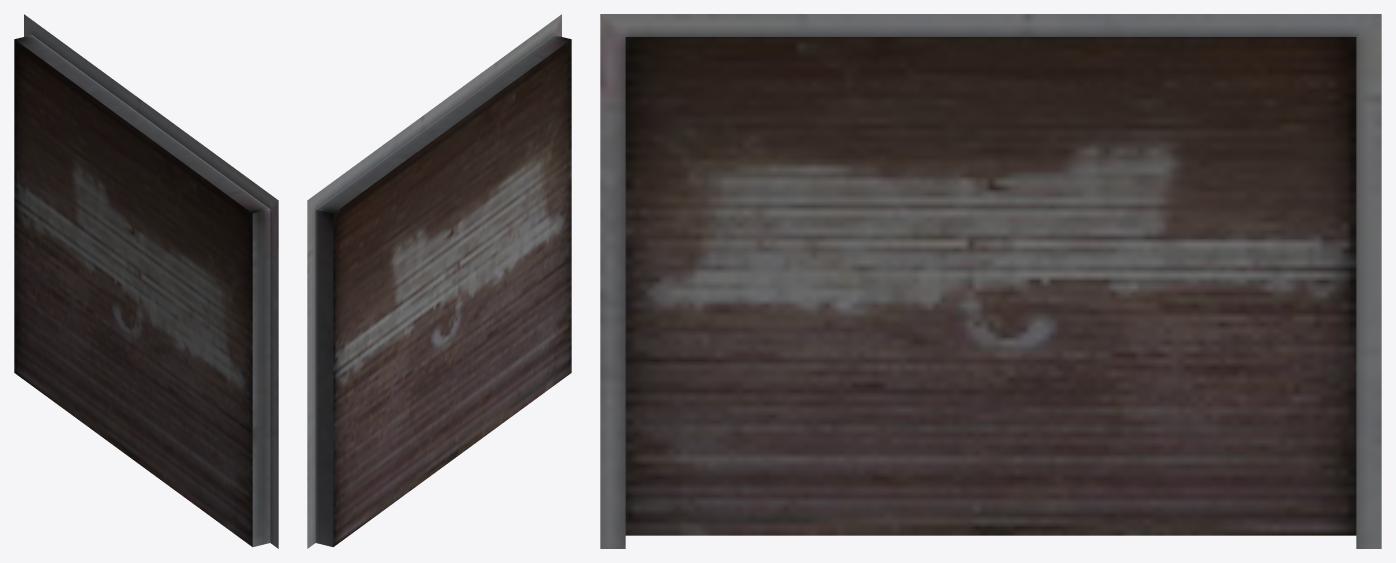
Rendered from Shutter_01.FBX.
3 renders of one model, left to right at view 1: azimuth 30°, elevation 25°; view 2: azimuth 150°, elevation 25°; view 3: azimuth 270°, elevation 25°, orthographic. The views are drawn at different scales.
Visible parts, largest first — view 1: Shutter_01; view 2: Shutter_01; view 3: Shutter_01.
Boxes of the visible parts, x1,y1,x2,y2 form: Shutter_01: (14,14,278,548); Shutter_01: (307,14,571,548); Shutter_01: (600,14,1381,548).
Bounding box in the file's own units: 18.62 × 351 × 464.
